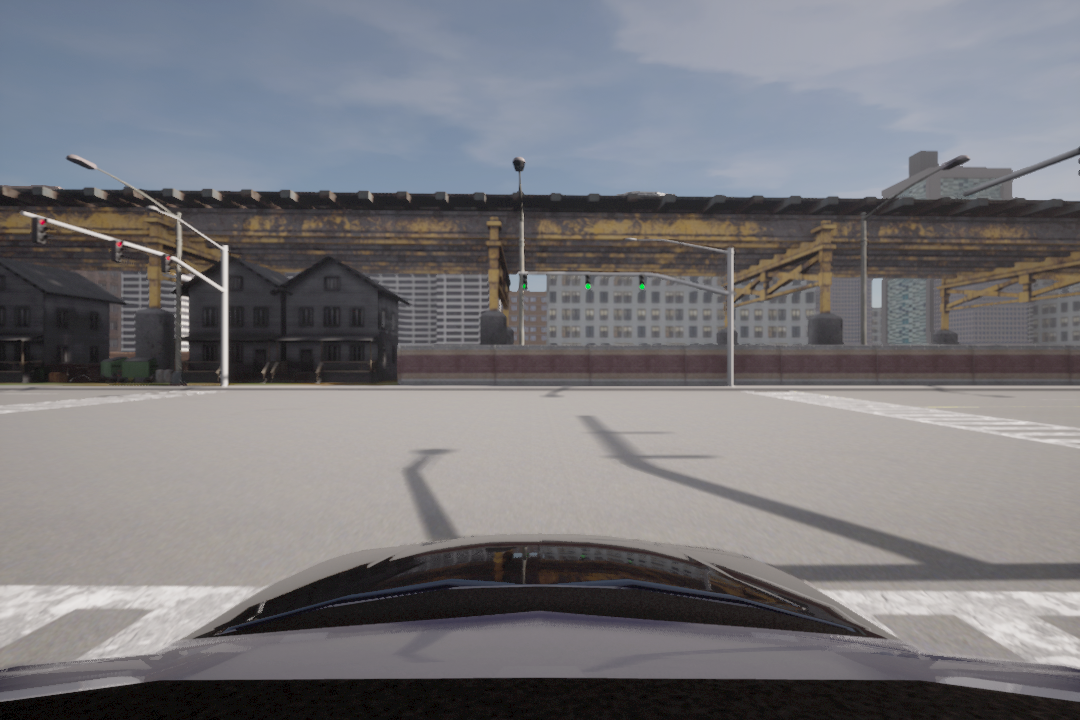TrafficLight: (32, 217, 51, 245), (107, 240, 124, 266), (518, 269, 531, 294), (159, 252, 171, 276), (635, 275, 647, 292), (584, 272, 593, 291)
